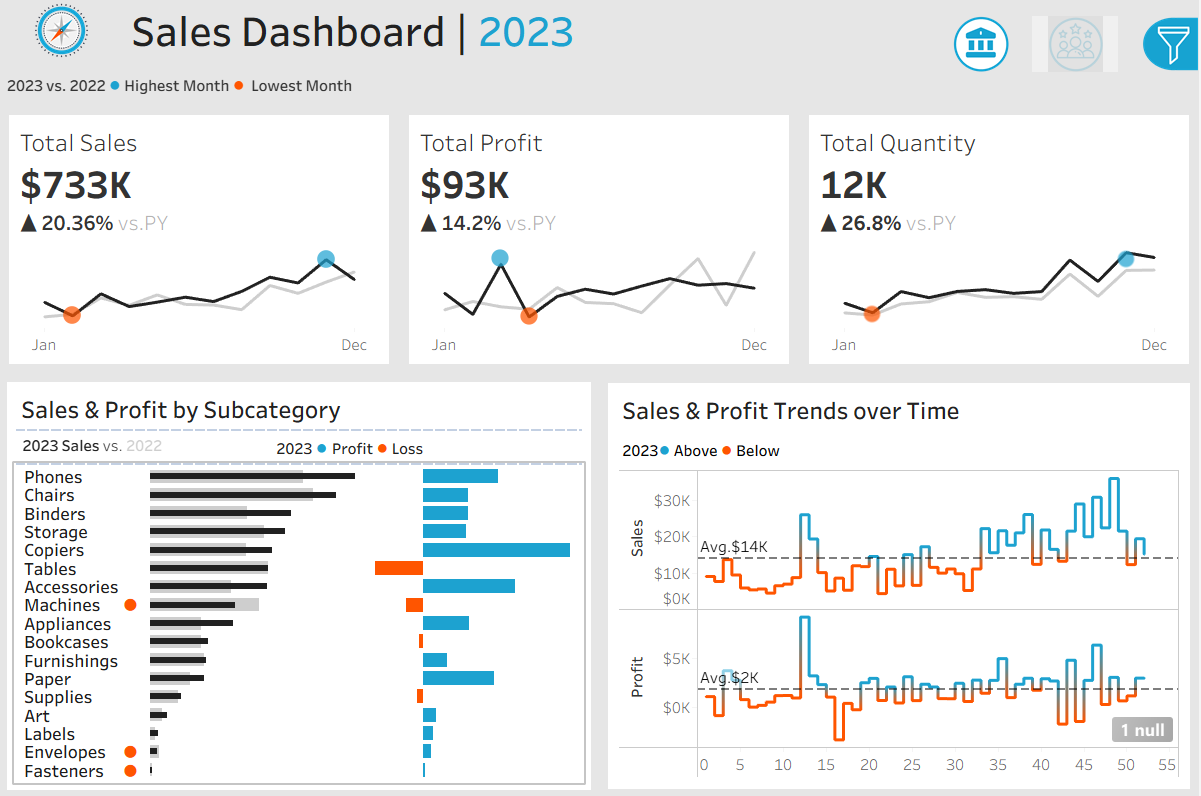

The dashboard page shown, as its layout file describes it:
{"tool":"tableau","page":{"name":"Sales Dashboards","canvas":[1200,800],"ordinal":0},"visuals":[{"type":"image","param":"C:/Users/Admin/Downloads/data/tableau/sales dashboard/projects/projects/sales-da","box":[0,0,125,64]},{"type":"text","box":[125,0,1075,64]},{"type":"blank","box":[1004,10,184,97]},{"type":"dashboard-object","box":[935,14,94,64]},{"type":"dashboard-object","box":[1029,14,94,64]},{"type":"worksheet","title":"Legend of KPI","mark":"Automatic","box":[0,64,1200,43]},{"type":"worksheet","title":"KPI Sales","mark":"Automatic","rows":["Calculation_875387242916560900"],"cols":["Order Date"],"box":[0,107,400,269]},{"type":"worksheet","title":"KPI Profit","mark":"Automatic","rows":["Calculation_402790759497216009"],"cols":["Order Date"],"box":[400,107,400,269]},{"type":"worksheet","title":"KPI Qty","mark":"Automatic","rows":["Calculation_402790759492796422"],"cols":["Order Date"],"box":[800,107,400,269]},{"type":"text","box":[1004,107,184,65]},{"type":"parameter","param":"[Parameters].[Parameter 1]","box":[1004,172,184,65]},{"type":"text","box":[1004,237,184,33]},{"type":"filter","title":"KPI Sales","param":"[federated.10wni760ru1jmc1dvdnvw1ioazkk].[none:Category:nk]","box":[1004,270,184,61]},{"type":"filter","title":"KPI Sales","param":"[federated.10wni760ru1jmc1dvdnvw1ioazkk].[none:Sub-Category:nk]","box":[1004,331,184,61]},{"type":"text","box":[15,391,570,40]},{"type":"text","box":[616,392,568,40]},{"type":"blank","box":[1004,392,184,32]},{"type":"text","box":[1004,424,184,33]},{"type":"worksheet","title":"Legend of Sub-Cat Chart","mark":"Automatic","box":[15,431,255,34]},{"type":"text","box":[270,431,315,34]},{"type":"text","box":[616,432,568,36]},{"type":"filter","title":"KPI Sales","param":"[federated.10wni760ru1jmc1dvdnvw1ioazkk].[none:Region:nk]","box":[1004,457,184,61]},{"type":"worksheet","title":"Subcategory Comparison","mark":"Bar","rows":["Sub-Category","Calculation_402790759516434444"],"cols":["CY Sales (copy)_875387242906984449","Calculation_875387242906640384","Calculation_402790759481643008"],"box":[15,465,570,319.9]},{"type":"worksheet","title":"Weekly Trends","mark":"Automatic","rows":["Calculation_875387242906640384","Calculation_402790759481643008"],"cols":["Order Date"],"box":[616,468,568,316]},{"type":"filter","title":"KPI Sales","param":"[federated.10wni760ru1jmc1dvdnvw1ioazkk].[none:State:nk]","box":[1004,518,184,61]},{"type":"filter","title":"KPI Sales","param":"[federated.10wni760ru1jmc1dvdnvw1ioazkk].[none:City:nk]","box":[1004,579,184,61]}]}

Visuals, with their boxes in screenshot pixels (x1, y1, x2, y2), scaled from the page's 1200x800 canvas onto the 1201x796 screenshot:
image: <box>0,0,125,64</box>
text: <box>125,0,1200,64</box>
blank: <box>1005,10,1189,106</box>
dashboard-object: <box>936,14,1030,78</box>
dashboard-object: <box>1030,14,1124,78</box>
"Legend of KPI" worksheet: <box>0,64,1200,106</box>
"KPI Sales" worksheet: <box>0,106,400,374</box>
"KPI Profit" worksheet: <box>400,106,801,374</box>
"KPI Qty" worksheet: <box>801,106,1200,374</box>
text: <box>1005,106,1189,171</box>
parameter: <box>1005,171,1189,236</box>
text: <box>1005,236,1189,269</box>
"KPI Sales" filter: <box>1005,269,1189,329</box>
"KPI Sales" filter: <box>1005,329,1189,390</box>
text: <box>15,389,585,429</box>
text: <box>617,390,1185,430</box>
blank: <box>1005,390,1189,422</box>
text: <box>1005,422,1189,455</box>
"Legend of Sub-Cat Chart" worksheet: <box>15,429,270,463</box>
text: <box>270,429,585,463</box>
text: <box>617,430,1185,466</box>
"KPI Sales" filter: <box>1005,455,1189,515</box>
"Subcategory Comparison" worksheet (Bar marks): <box>15,463,585,781</box>
"Weekly Trends" worksheet: <box>617,466,1185,780</box>
"KPI Sales" filter: <box>1005,515,1189,576</box>
"KPI Sales" filter: <box>1005,576,1189,637</box>
